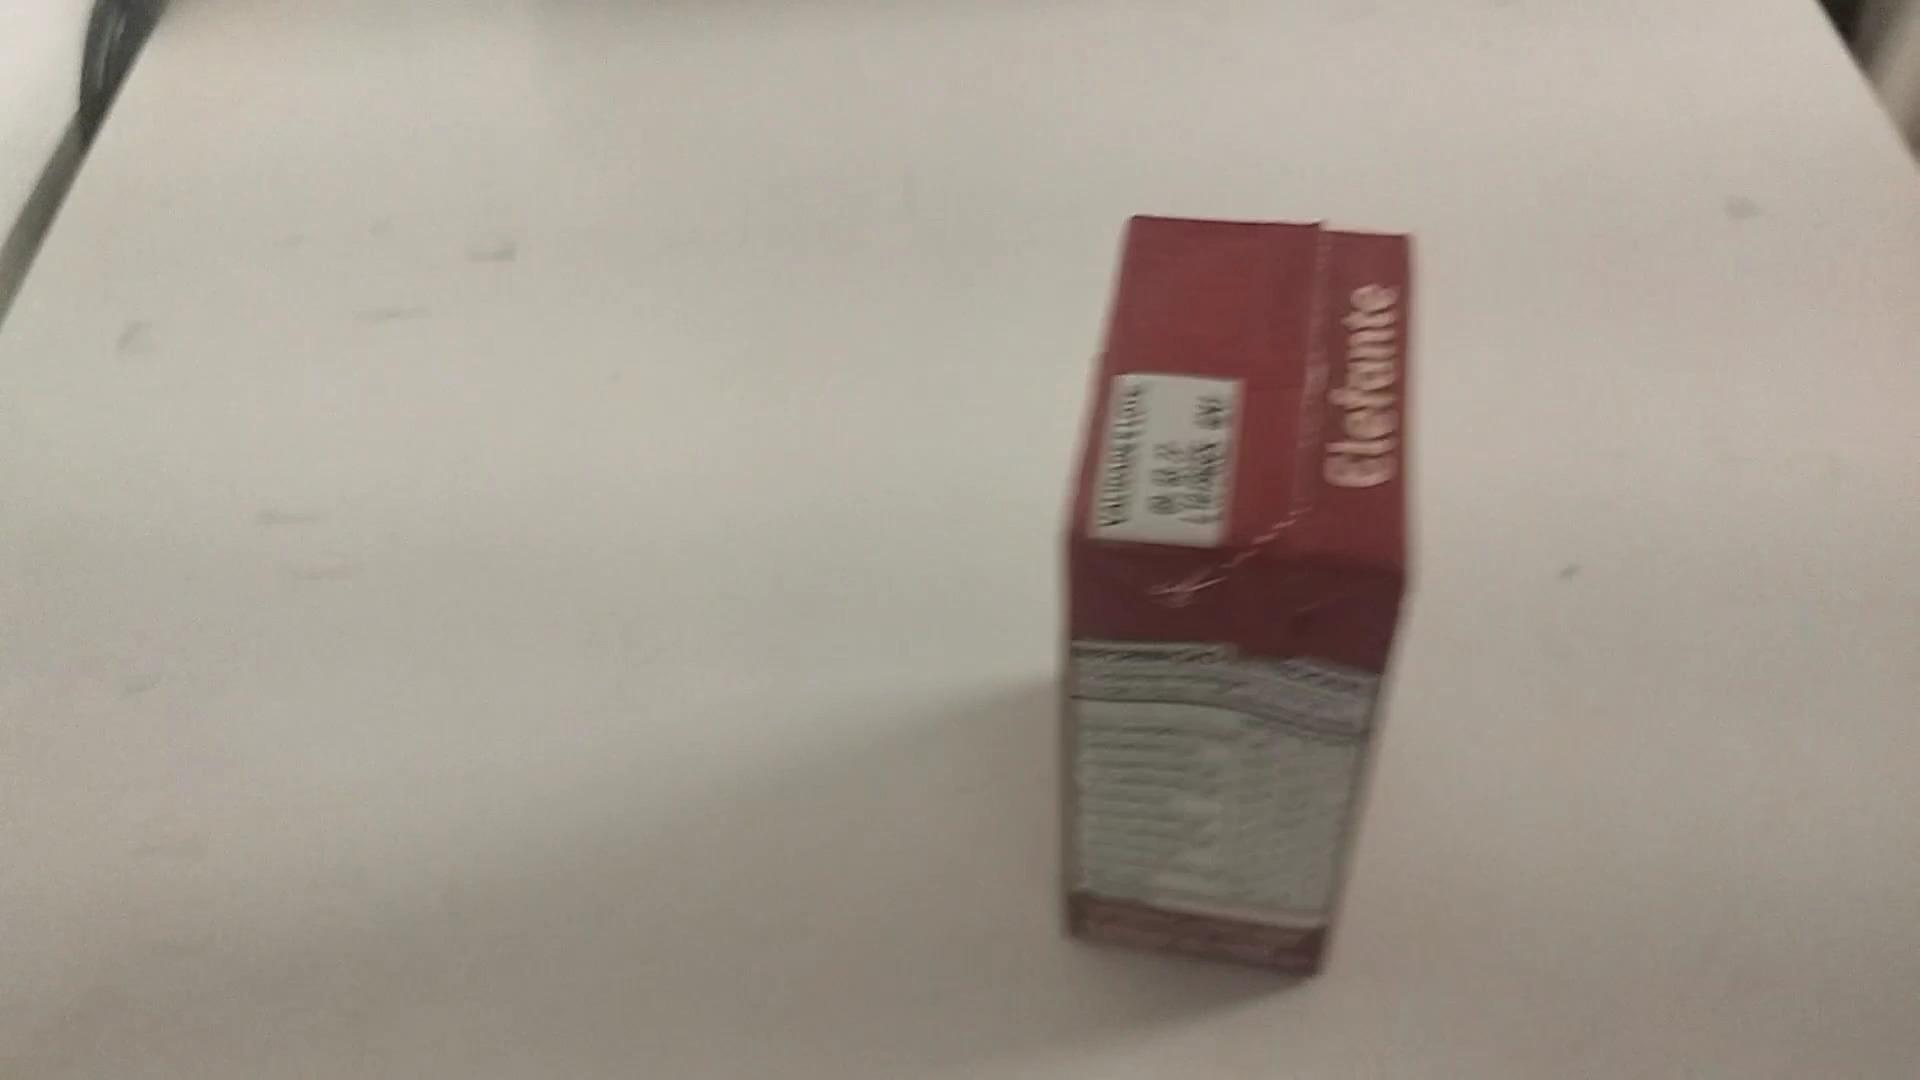tomate: (1034, 183, 1425, 972)
